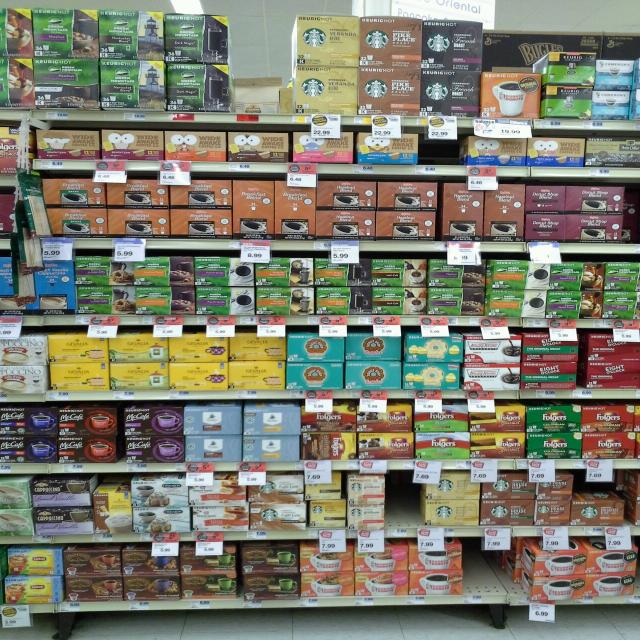void: (232, 17, 290, 117), (470, 544, 528, 592), (388, 472, 422, 526), (422, 129, 466, 167)
